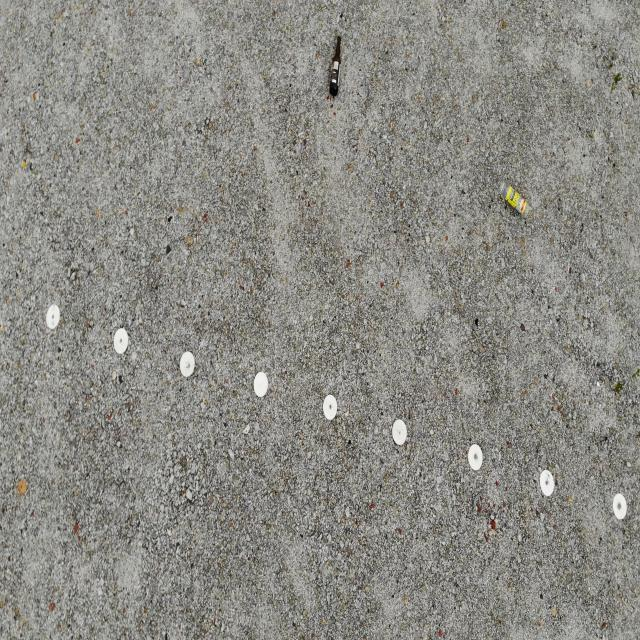rubbish: (498, 180, 531, 218), (328, 34, 341, 96)
